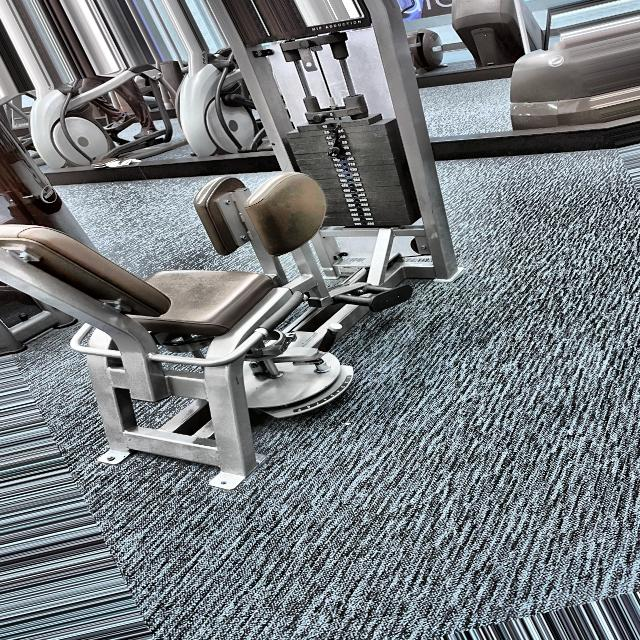hip_adduction_machine: (148, 128, 465, 472), (310, 20, 369, 32)
